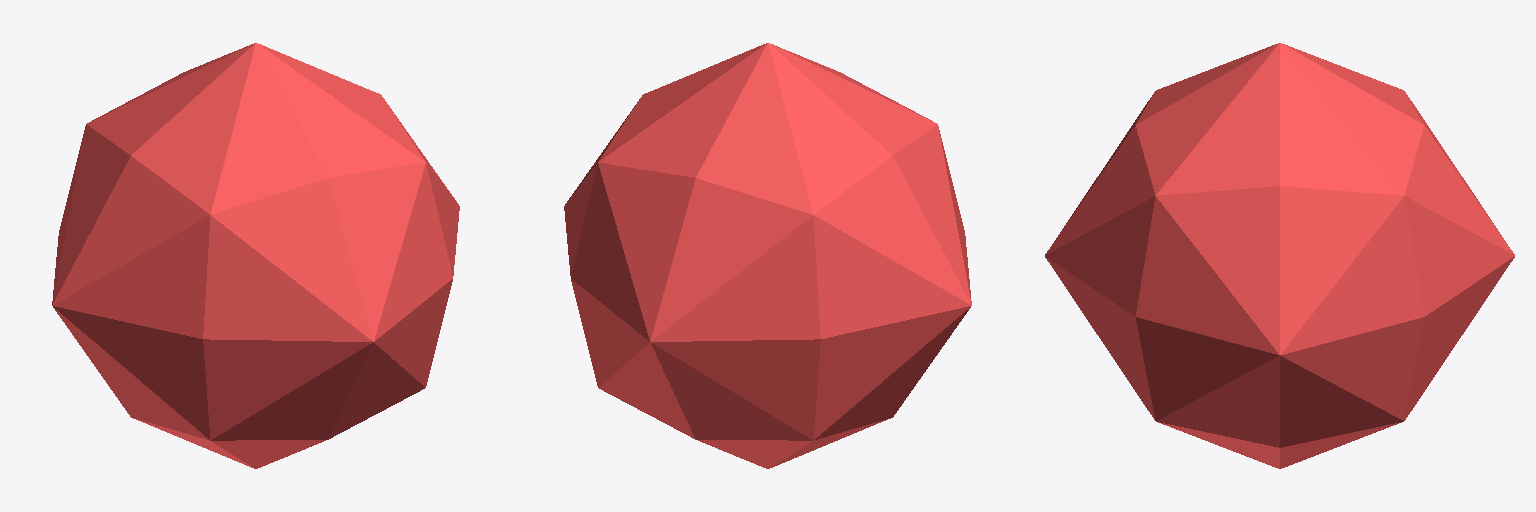
File: DisdyakisDodecahedron.obj
3 views of the same model, side by side, from view 1: azimuth 30°, elevation 25°; view 2: azimuth 150°, elevation 25°; view 3: azimuth 270°, elevation 25° (orthographic).
Size of the model in its own units: 5.35 by 5.35 by 5.35.